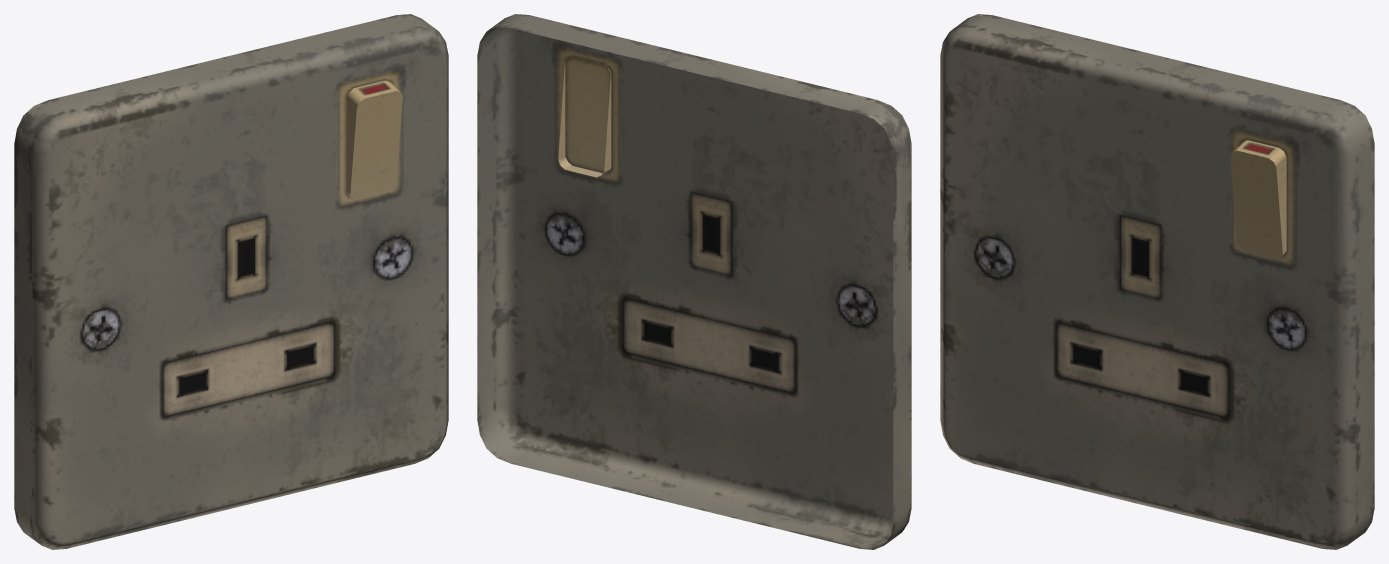
Rendered from M_Wall_Socket_01.FBX.
3 renders of one model, left to right at view 1: azimuth 30°, elevation 25°; view 2: azimuth 150°, elevation 25°; view 3: azimuth 330°, elevation 25°, orthographic.
Parts seen in each view (by area): view 1: M_Wall_Socket_01; view 2: M_Wall_Socket_01; view 3: M_Wall_Socket_01.
Part boxes in pixels (box(x1,y1,x2,y2)): M_Wall_Socket_01: box(14, 14, 448, 549); M_Wall_Socket_01: box(477, 14, 911, 549); M_Wall_Socket_01: box(940, 14, 1374, 549).
Bounding box in the file's own units: 8.6 × 1.29 × 8.6.
